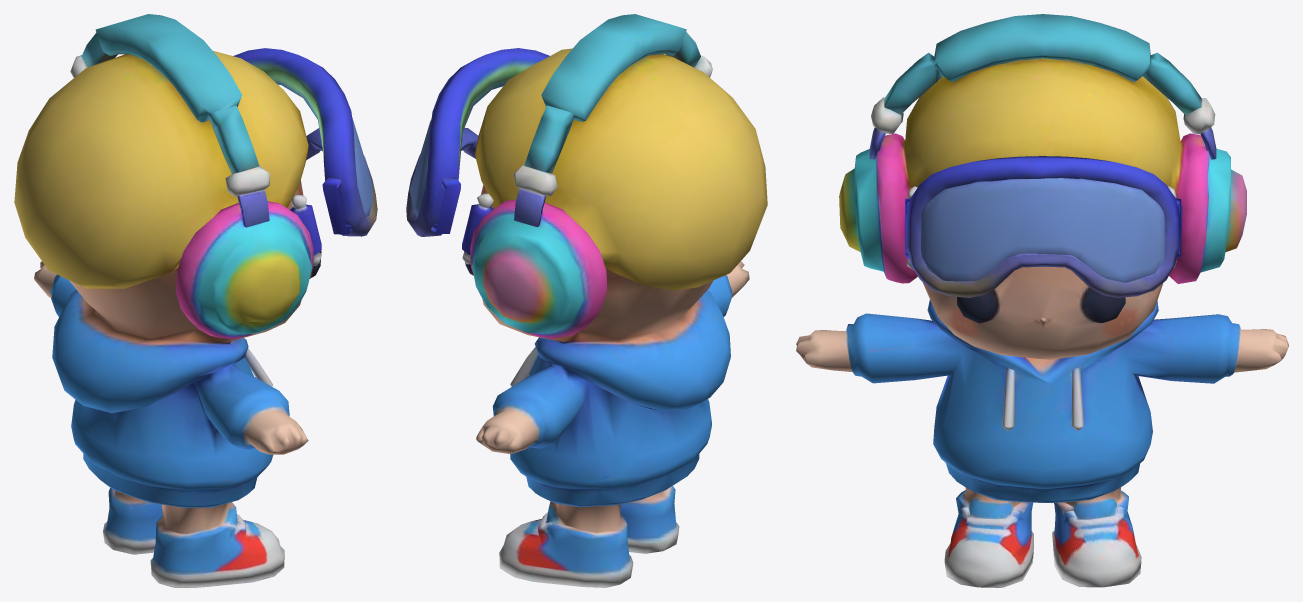
File: char-2-dj.glb
The picture shows the model from 3 angles, left to right: view 1: azimuth 30°, elevation 25°; view 2: azimuth 150°, elevation 25°; view 3: azimuth 270°, elevation 25°; orthographic projection.
Parts seen in each view (by area): view 1: tripo_node_86313d36-5dde-4e21-b4b0-825331fbe8e1; view 2: tripo_node_86313d36-5dde-4e21-b4b0-825331fbe8e1; view 3: tripo_node_86313d36-5dde-4e21-b4b0-825331fbe8e1.
Part boxes in pixels (left/top/right/bottom): tripo_node_86313d36-5dde-4e21-b4b0-825331fbe8e1: left=14, top=14, right=377, bottom=587; tripo_node_86313d36-5dde-4e21-b4b0-825331fbe8e1: left=406, top=14, right=767, bottom=587; tripo_node_86313d36-5dde-4e21-b4b0-825331fbe8e1: left=796, top=14, right=1288, bottom=587.
Size of the model in its own units: 0.6269 by 0.998 by 0.8497.
1 material, 1 textured.
